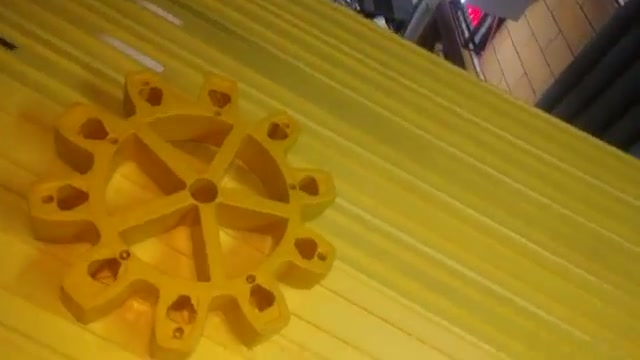gear: (30, 52, 345, 360)
